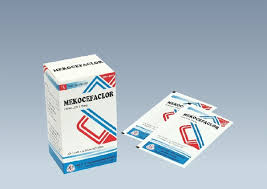Mekocefaclor: (50, 91, 119, 104)
